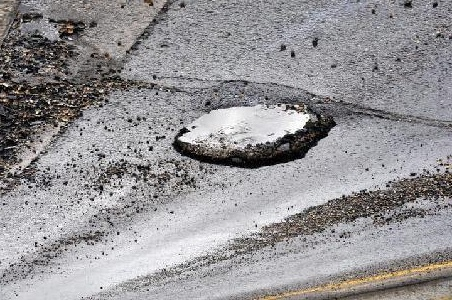pothole: (167, 102, 338, 171)
